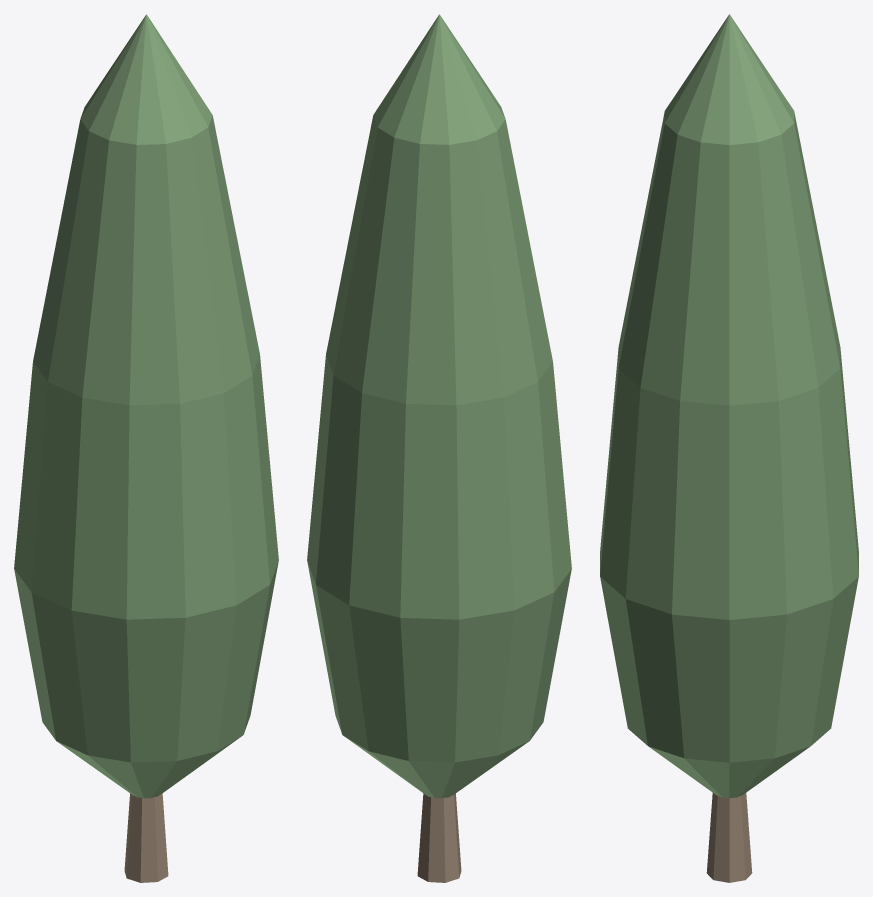
File: cypress.glb
3 renders of one model, left to right at view 1: azimuth 30°, elevation 25°; view 2: azimuth 150°, elevation 25°; view 3: azimuth 270°, elevation 25°, orthographic.
Visible parts, largest first — view 1: cypress_hedge, cypress_bark; view 2: cypress_hedge, cypress_bark; view 3: cypress_hedge, cypress_bark.
Boxes of the visible parts, x1,y1,x2,y2 form: cypress_hedge: (14, 14, 278, 798); cypress_bark: (124, 793, 168, 882); cypress_hedge: (307, 14, 571, 798); cypress_bark: (417, 793, 461, 882); cypress_hedge: (600, 14, 858, 797); cypress_bark: (706, 793, 752, 882).
Size of the model in its own units: 1.4 by 5 by 1.36.
